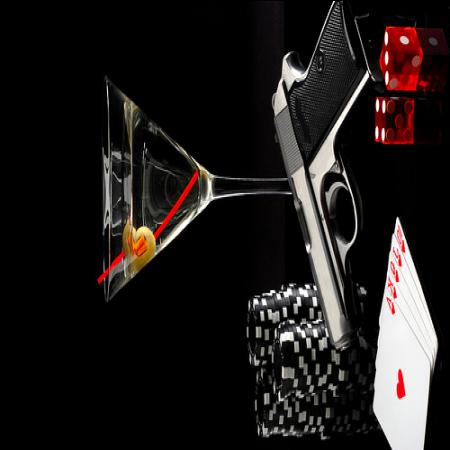Pistol: (269, 5, 384, 348)
